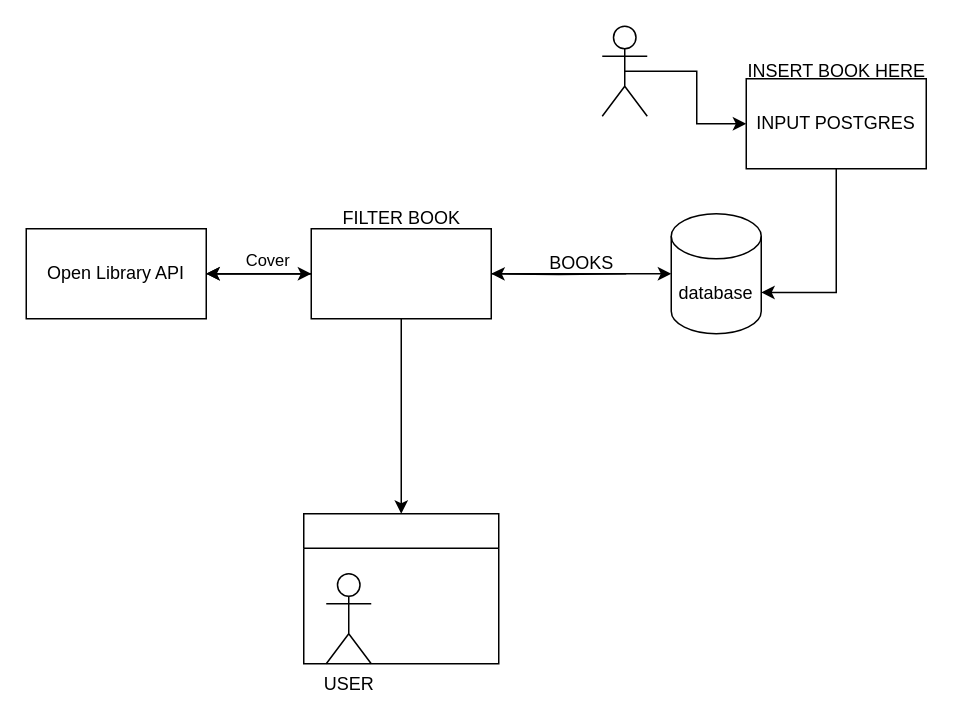
Some shapes in this 968 by 722 pixel diagram are drawn without their labels. The centre of each missing label's shape, as x and y in pixels:
"Application" goes at (400,273).
"ME" goes at (624,70).
